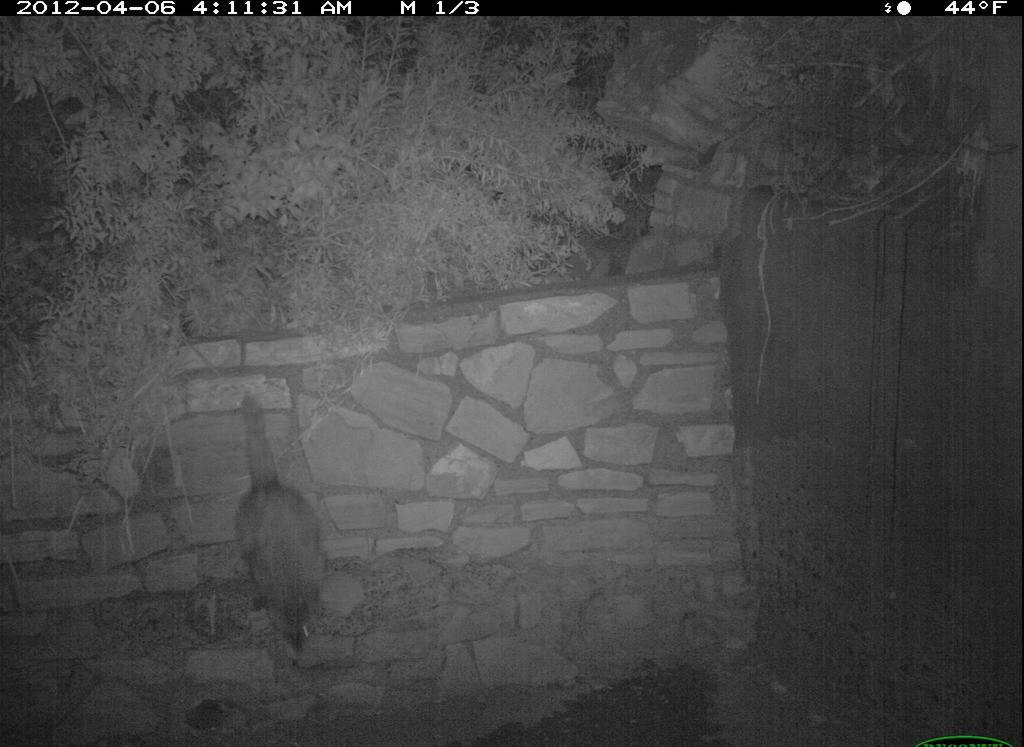raccoon: (228, 379, 353, 670)
